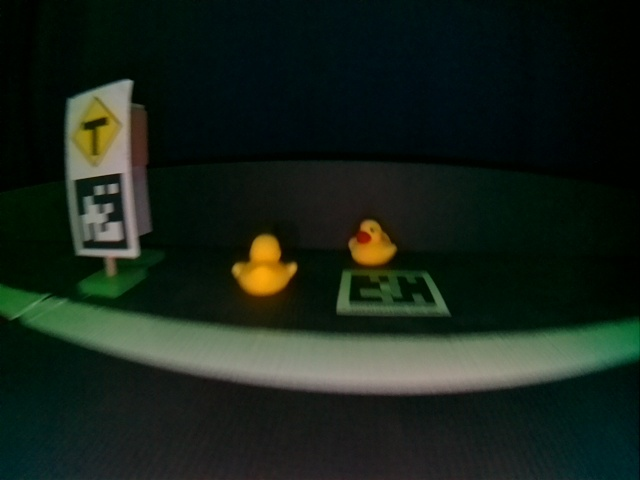Duckie: (233, 235, 296, 296), (348, 220, 395, 266)
Intersection sign: (68, 86, 131, 171)
QR code: (337, 270, 449, 316), (69, 173, 129, 255)
